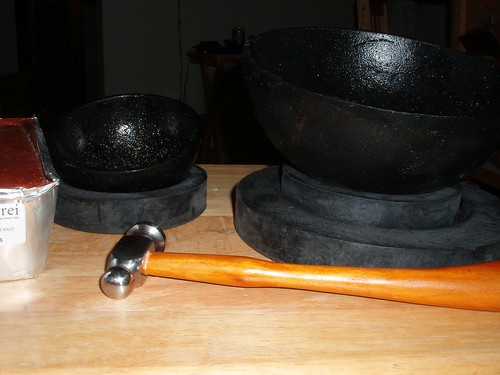hammer: (99, 220, 500, 315)
